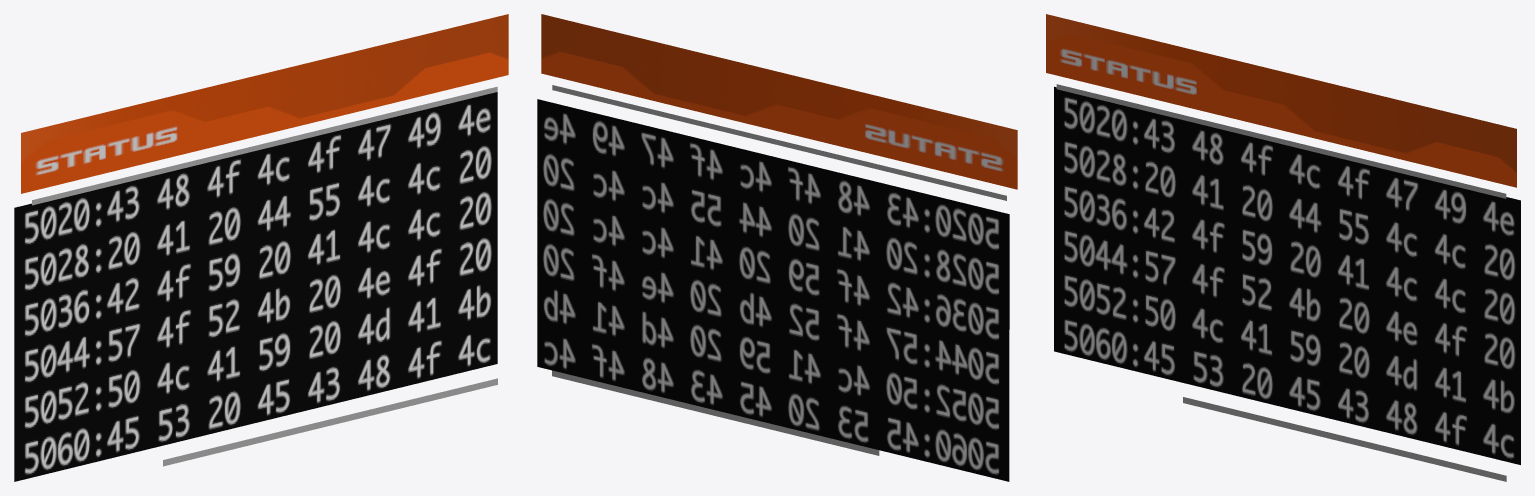
Rendered from DataPanel1.fbx.
3 views of the same model, side by side, from view 1: azimuth 30°, elevation 25°; view 2: azimuth 150°, elevation 25°; view 3: azimuth 330°, elevation 25° (orthographic). The views are drawn at different scales.
Visible parts, largest first — view 1: DataPanel1_crt, DataPanel1_Title; view 2: DataPanel1_crt, DataPanel1_Title; view 3: DataPanel1_crt, DataPanel1_Title.
Boxes of the visible parts, <box> form: DataPanel1_crt: <box>14,92,497,481</box>; DataPanel1_Title: <box>21,14,508,466</box>; DataPanel1_crt: <box>537,99,1009,481</box>; DataPanel1_Title: <box>541,14,1017,455</box>; DataPanel1_crt: <box>1054,86,1520,464</box>; DataPanel1_Title: <box>1046,14,1516,481</box>.
Size of the model in its own units: 1840 by 1328 by 50.34.
